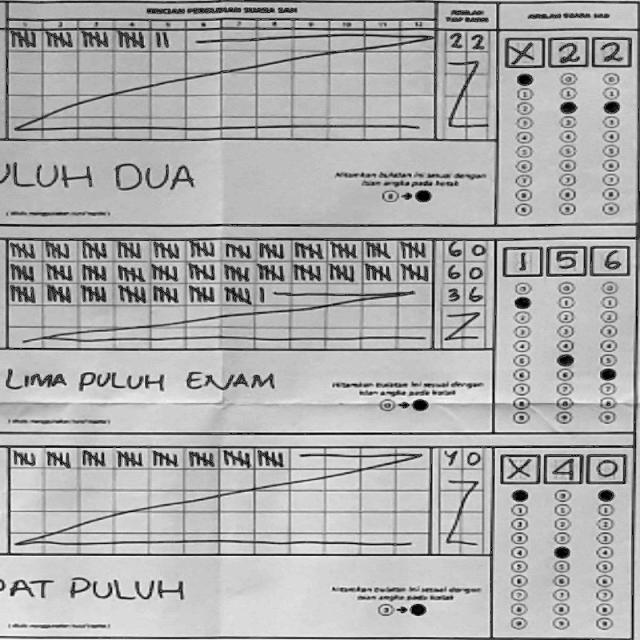Suara: (500, 240, 630, 283), (496, 449, 630, 488), (498, 33, 630, 67)
